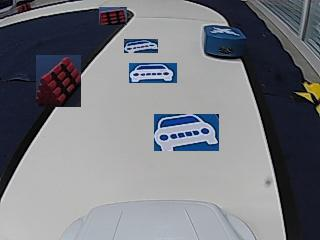prop: (204, 26, 246, 59)
